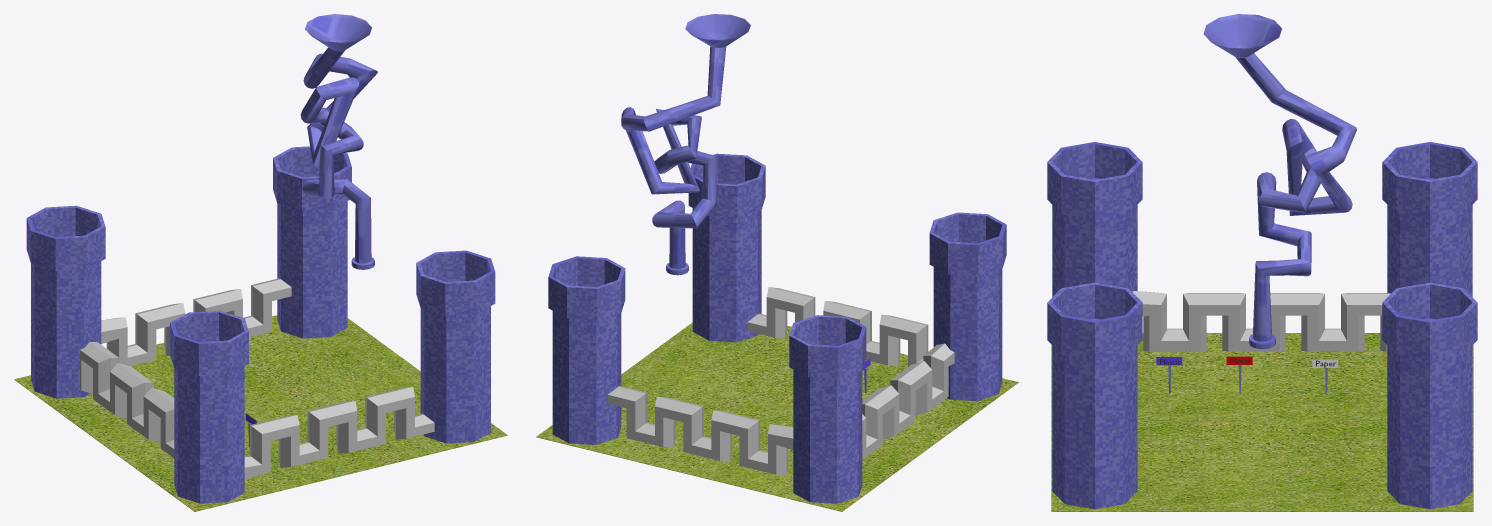
3 views of the same model, side by side, from view 1: azimuth 30°, elevation 25°; view 2: azimuth 150°, elevation 25°; view 3: azimuth 270°, elevation 25° (orthographic). The views are drawn at different scales.
Visible parts, largest first — view 1: boundary, FloorBaseGrass_01, Plane, Circle.001; view 2: boundary, FloorBaseGrass_01, Plane, Circle.001; view 3: boundary, FloorBaseGrass_01, Circle.001, Plane, Trashbin_tubes.009.
Part boxes in pixels (box(x1,y1,x2,y2)): boundary: box(26, 146, 495, 503); FloorBaseGrass_01: box(14, 315, 507, 511); Plane: box(80, 278, 434, 479); Circle.001: box(300, 14, 377, 269); boundary: box(548, 153, 1006, 503); FloorBaseGrass_01: box(536, 322, 1018, 511); Plane: box(607, 287, 954, 475); Circle.001: box(621, 14, 750, 275); boundary: box(1047, 142, 1477, 509); FloorBaseGrass_01: box(1051, 333, 1473, 511); Circle.001: box(1203, 14, 1356, 349); Plane: box(1133, 291, 1390, 351); Trashbin_tubes.009: box(1156, 356, 1338, 367).
Size of what is drawn, in the model's own units: 16.2 by 18.13 by 16.3.
Materials: 5 (3 with a texture image).
